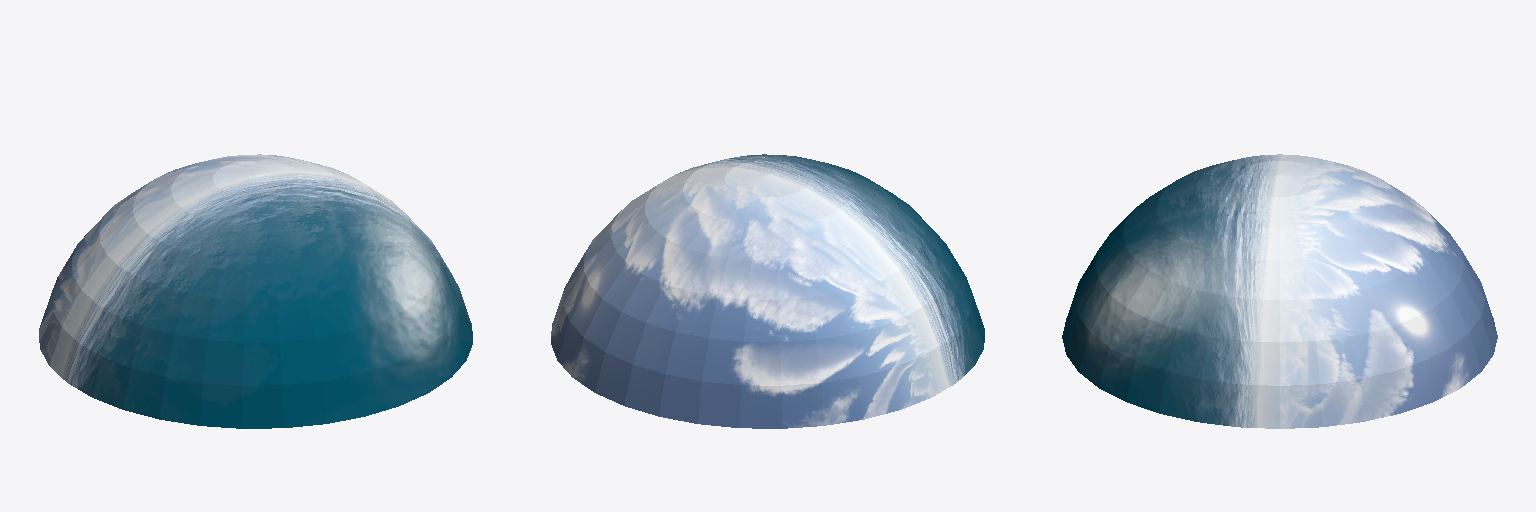
3 renders of one model, left to right at view 1: azimuth 30°, elevation 25°; view 2: azimuth 150°, elevation 25°; view 3: azimuth 270°, elevation 25°, orthographic.
Parts seen in each view (by area): view 1: sky_球; view 2: sky_球; view 3: sky_球.
Boxes of the visible parts, x1,y1,x2,y2 form: sky_球: [39, 154, 472, 428]; sky_球: [551, 154, 984, 428]; sky_球: [1062, 154, 1497, 428].
Size of the model in its own units: 1.96 by 0.8049 by 1.96.
1 materials, 1 textured.